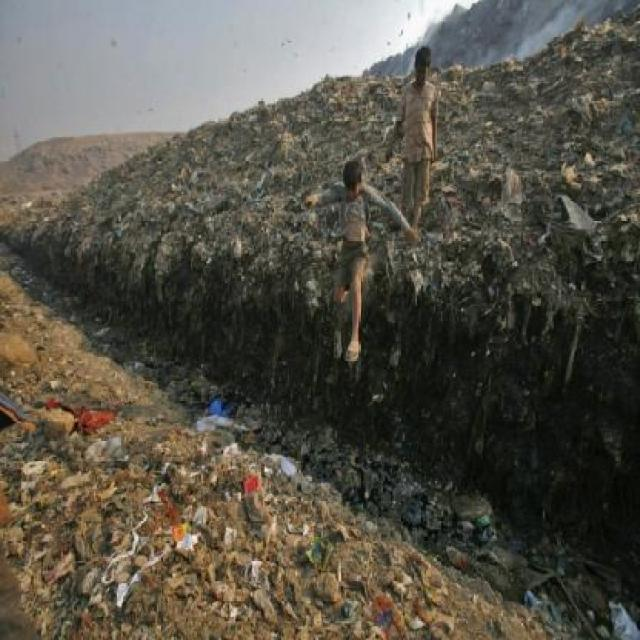garbage: (160, 482, 216, 566), (54, 391, 117, 446), (191, 391, 252, 440)
